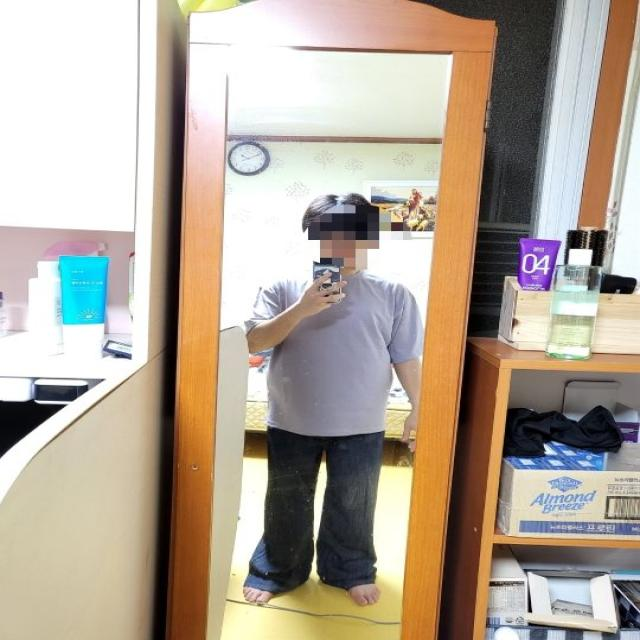denimpants: (246, 421, 382, 594)
shortsleeve: (245, 274, 424, 437)
